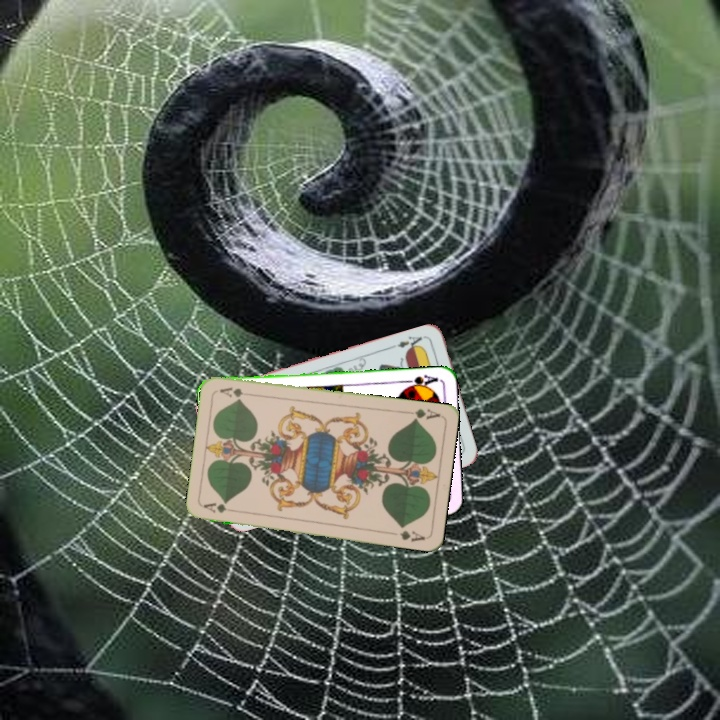EA: (388, 332, 428, 353)
GA: (402, 404, 443, 424), (200, 499, 241, 515)
SA: (400, 371, 441, 391)
